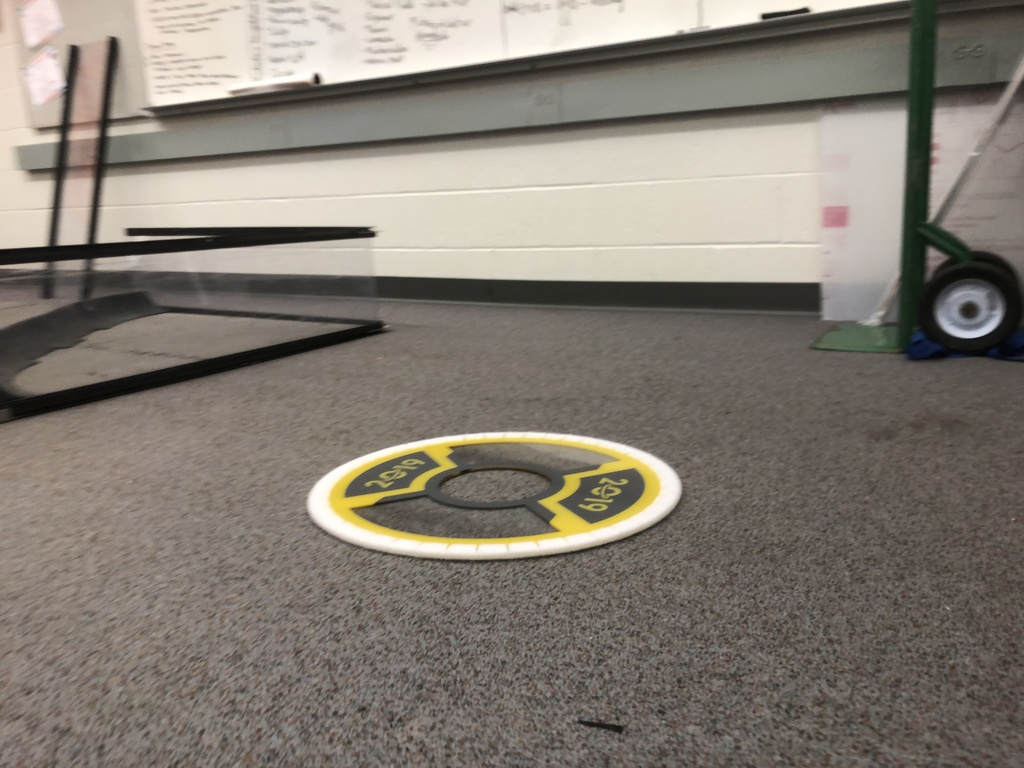hatch_panel: (293, 419, 697, 575)
